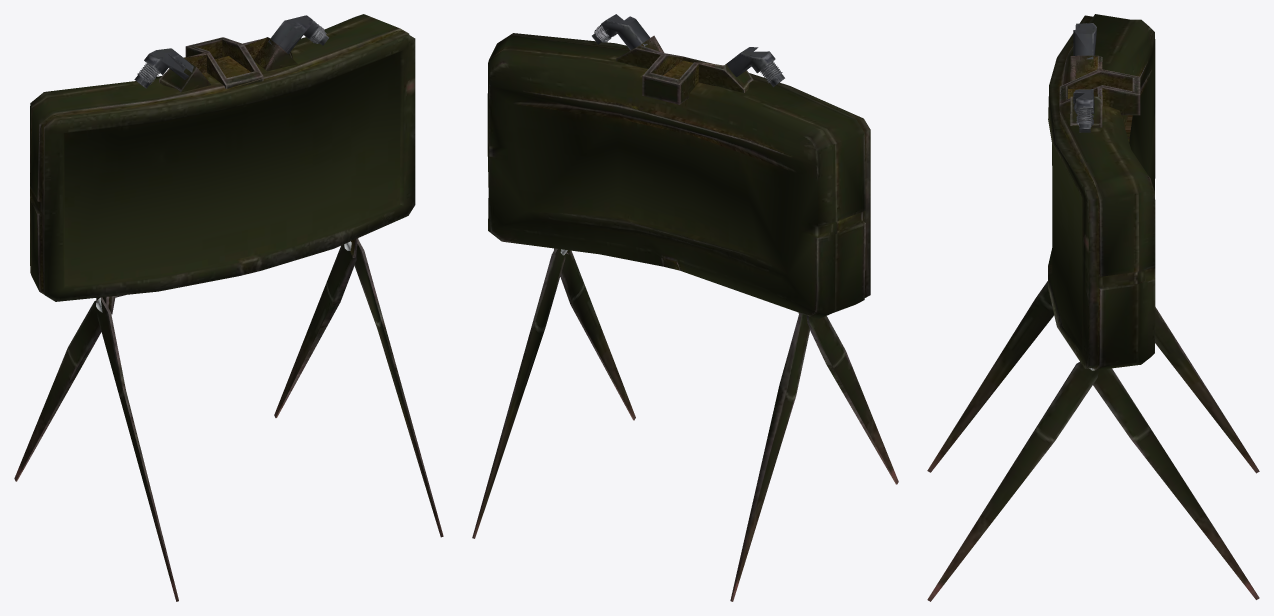
File: item-claymore.glb
The picture shows the model from 3 angles, left to right: view 1: azimuth 30°, elevation 25°; view 2: azimuth 150°, elevation 25°; view 3: azimuth 270°, elevation 25°; orthographic projection.
Visible parts, largest first — view 1: base; view 2: base; view 3: base.
Boxes of the visible parts, x1,y1,x2,y2 form: base: [14, 14, 443, 601]; base: [472, 14, 898, 601]; base: [927, 14, 1259, 601].
Bounding box in the file's own units: 0.2871 × 0.35 × 0.2214.
Materials: 1 (1 with a texture image).
